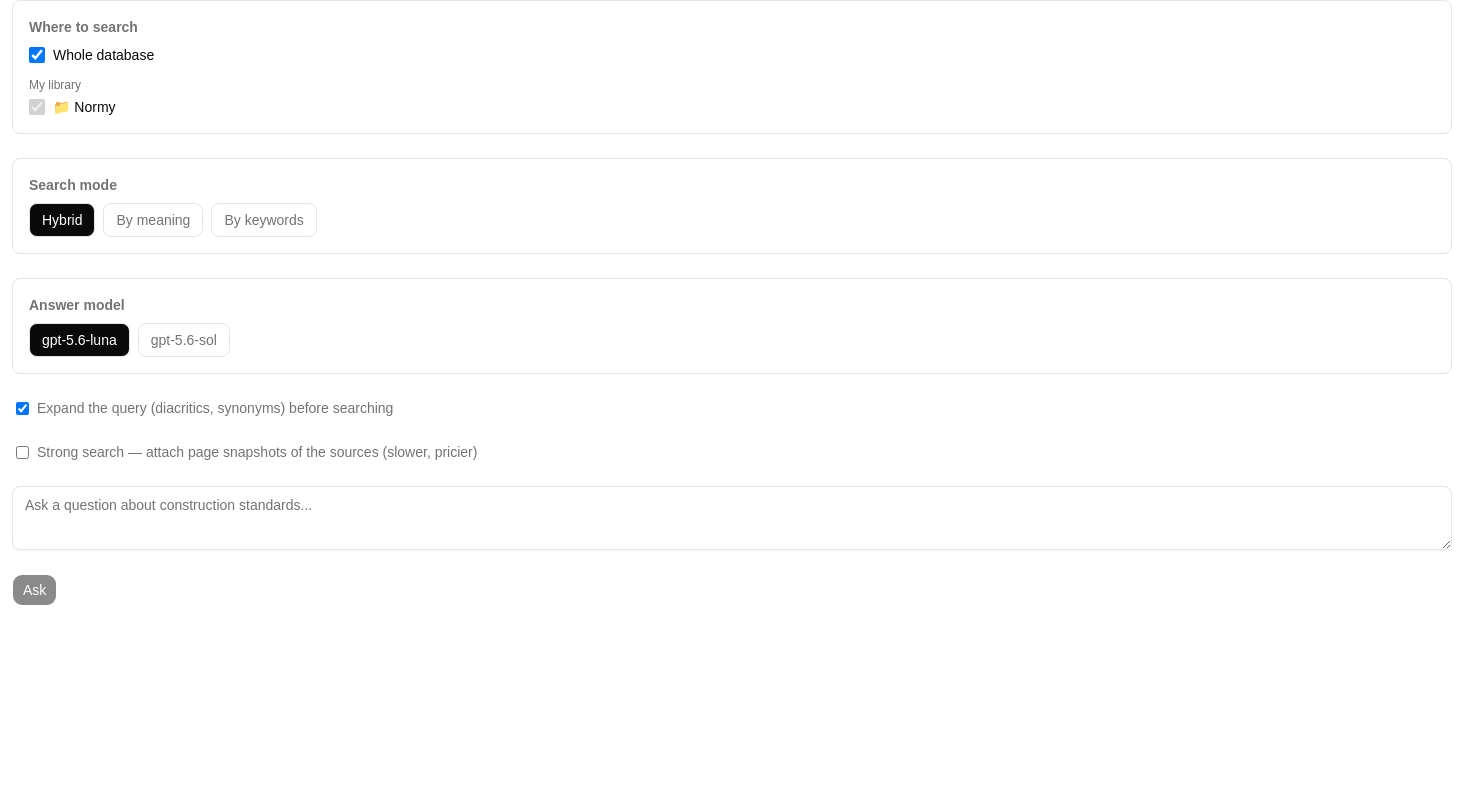
Test: search page › refuses to search when the scope is empty
This screenshot has width=1464, height=810.
Click the checkbox labelled "Whole database" at (37, 55), box top-left (29, 47), bottom-right (45, 63)
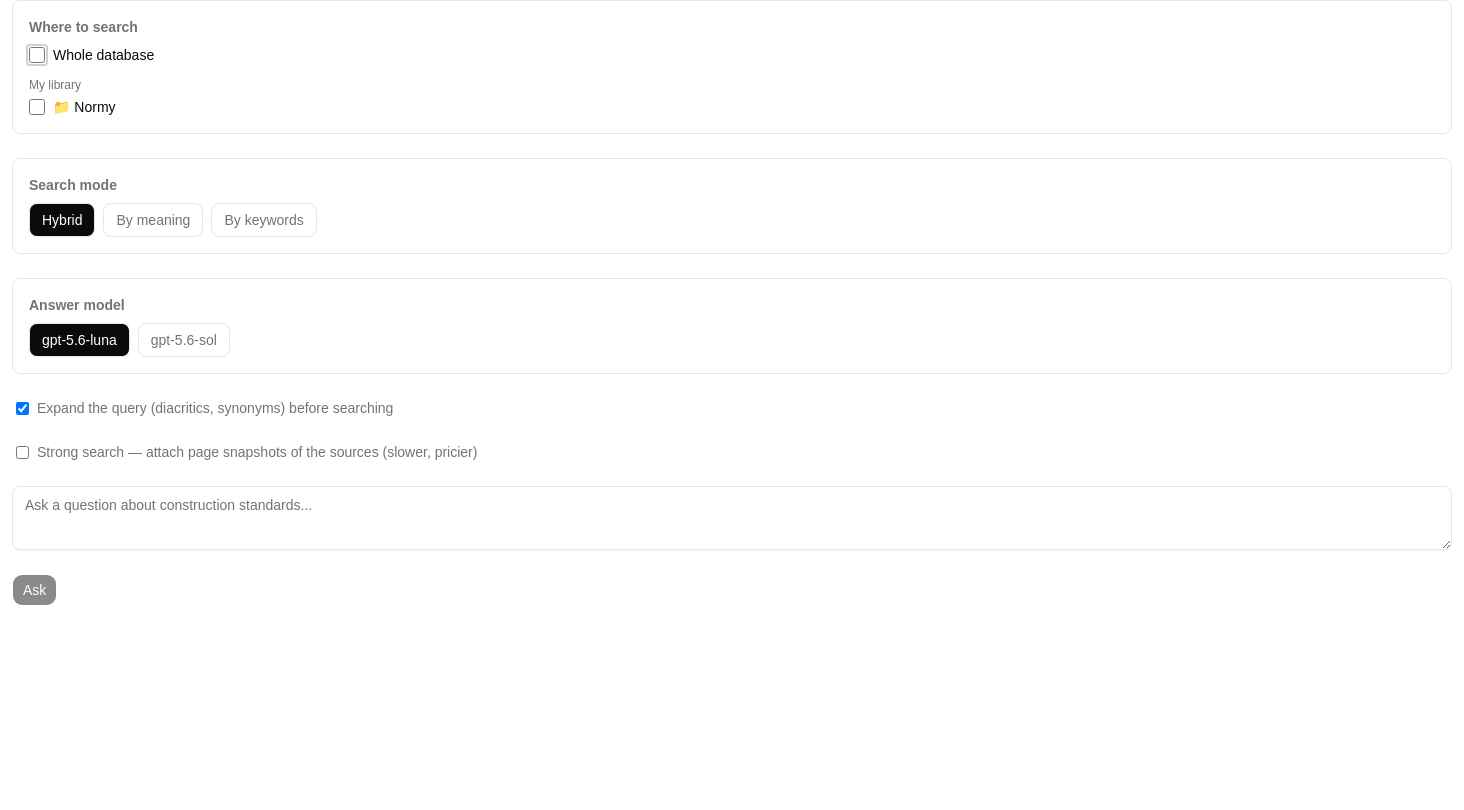
Type "kryti?" into the text box with placeholder "Ask a question about construction standards..." at (732, 518), box top-left (12, 486), bottom-right (1452, 550)
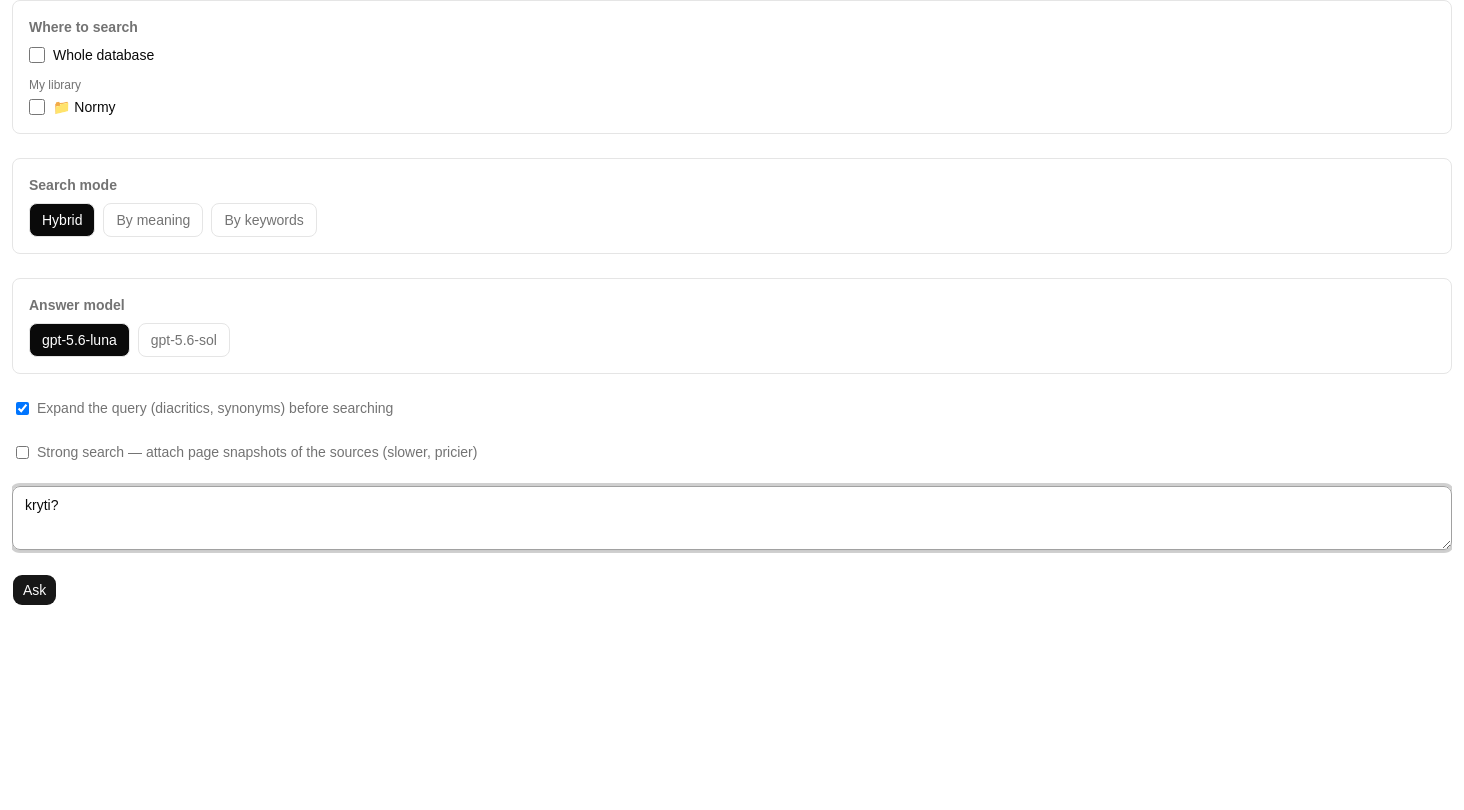
Click the button "Ask" at (35, 590), box top-left (12, 574), bottom-right (57, 606)
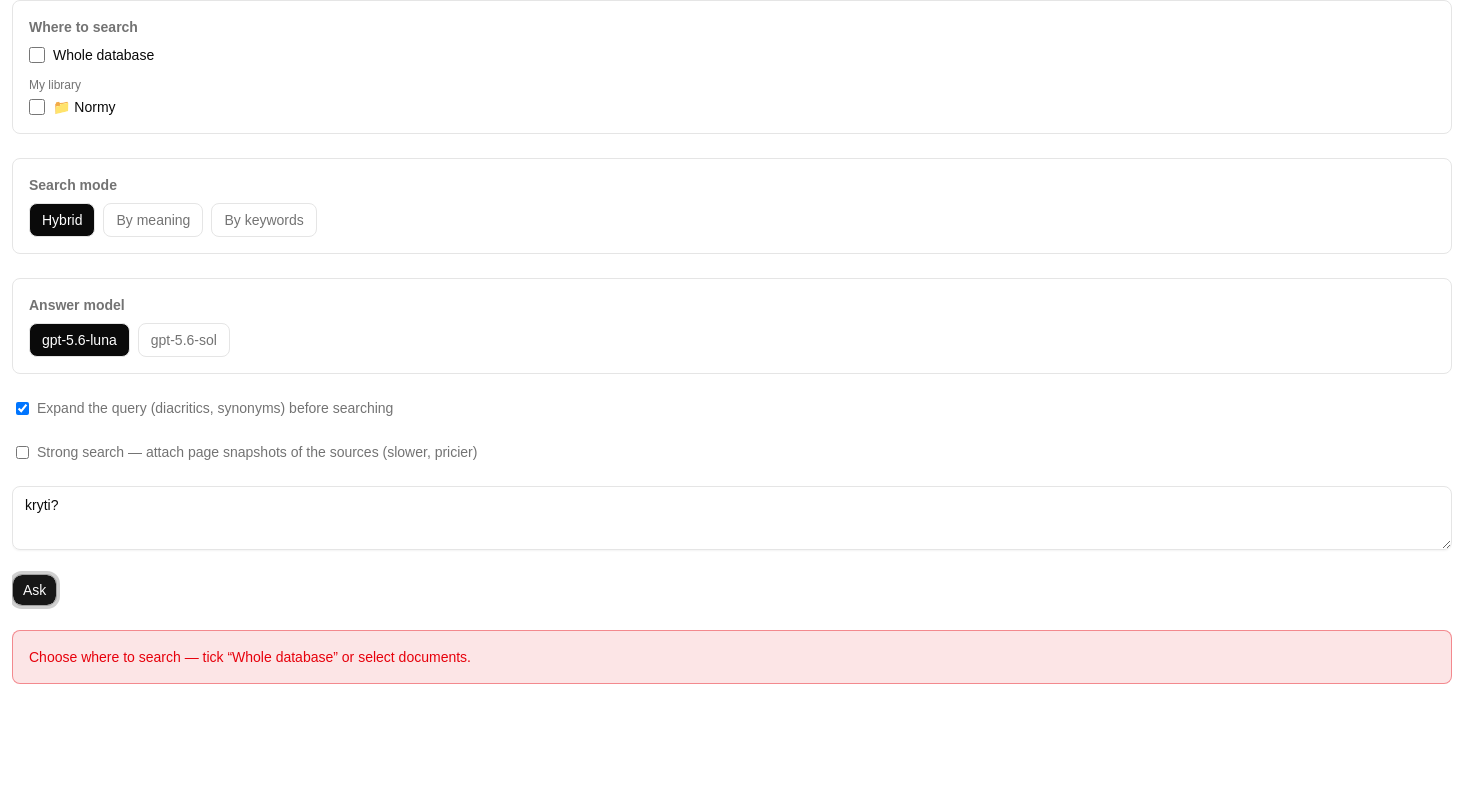
Now the text "Choose where to search" is shown, box top-left (29, 649), bottom-right (471, 665)
